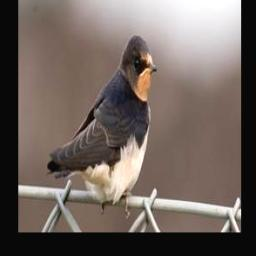Swallow: (45, 31, 157, 218)
